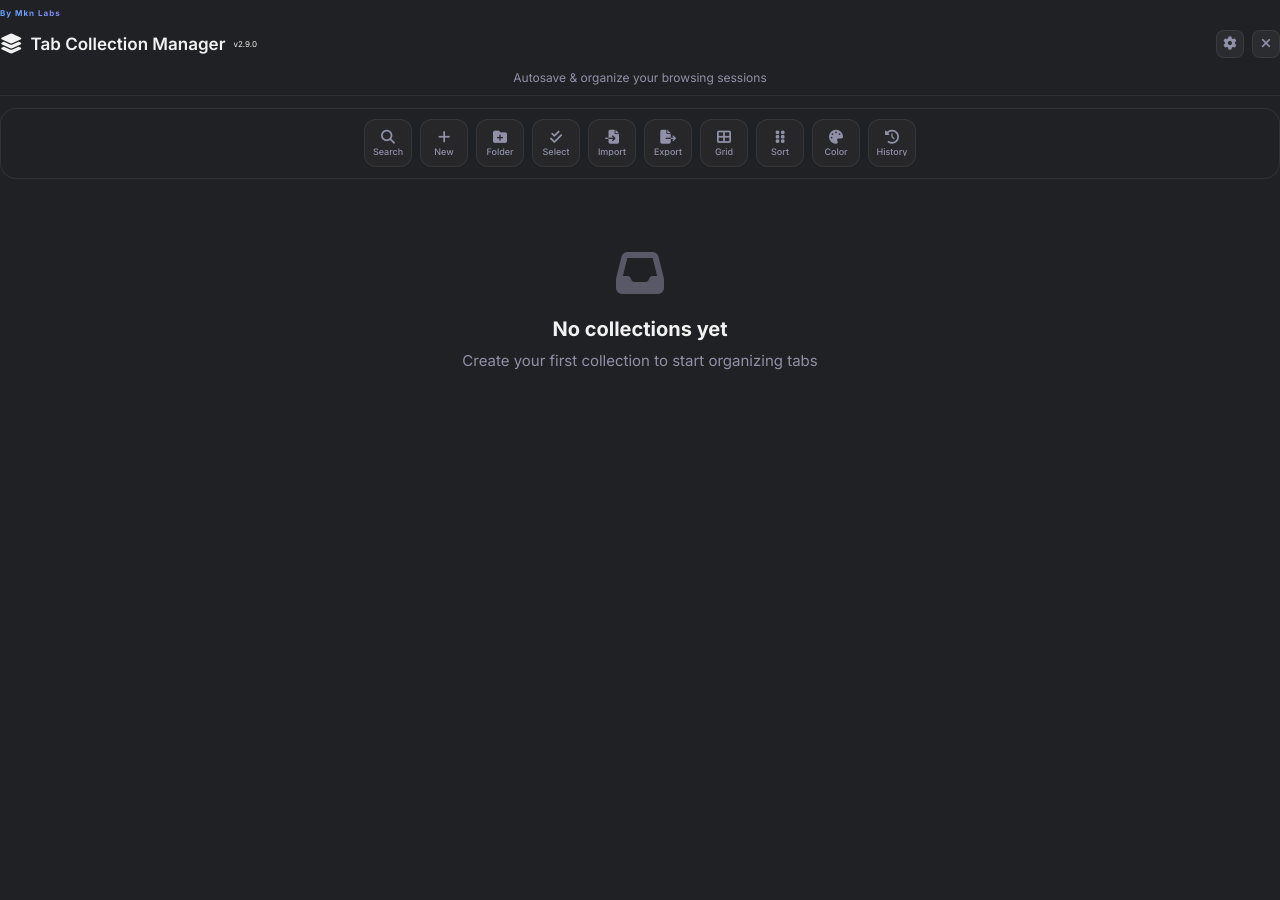
Scenario: App › opens the settings modal from the header button
Click the button with id "settingsBtn" at point(1230, 44), box [1216, 30, 1244, 58]
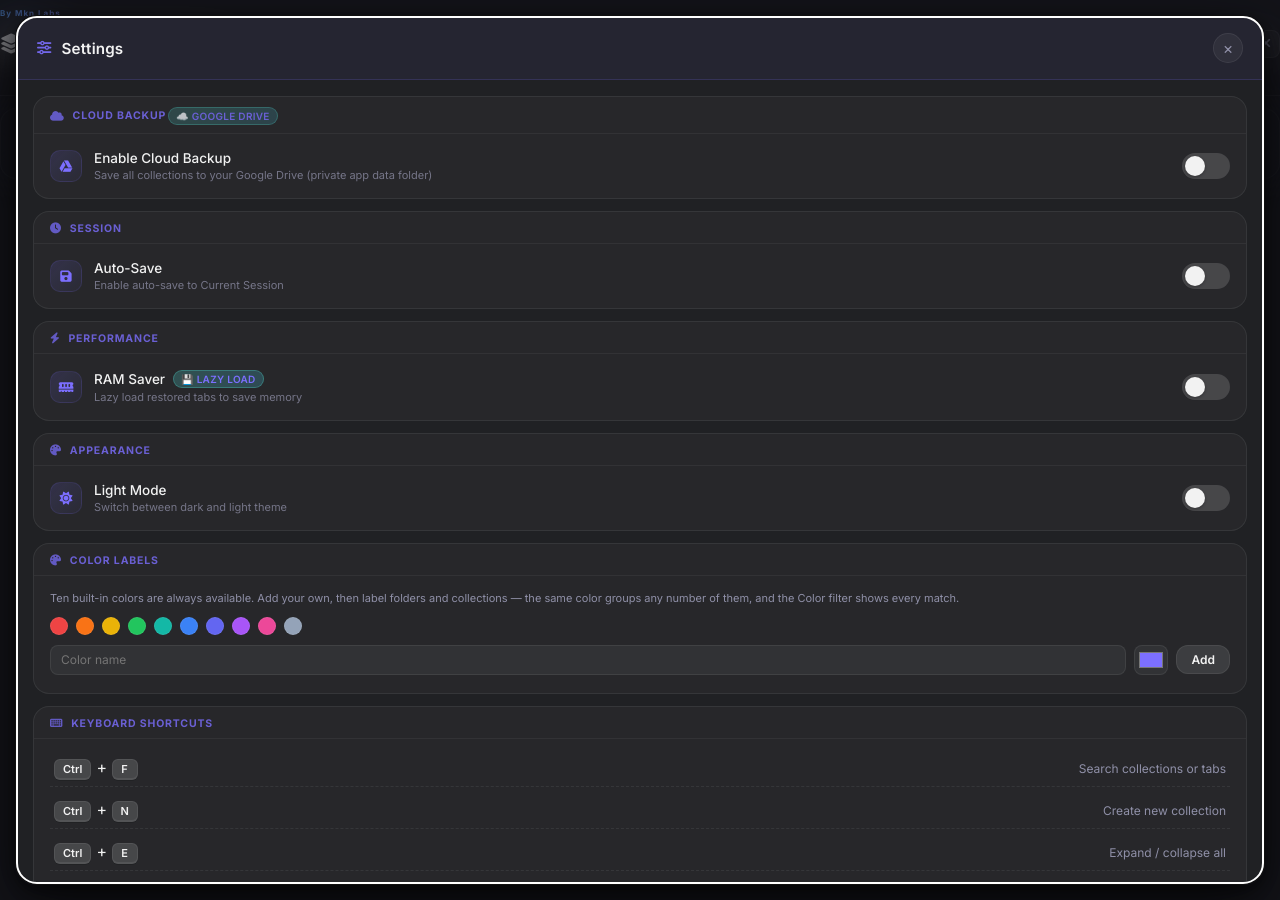
Expected: the dialog is shown
Expected: the heading "Settings" is shown, [37, 38, 123, 58]
